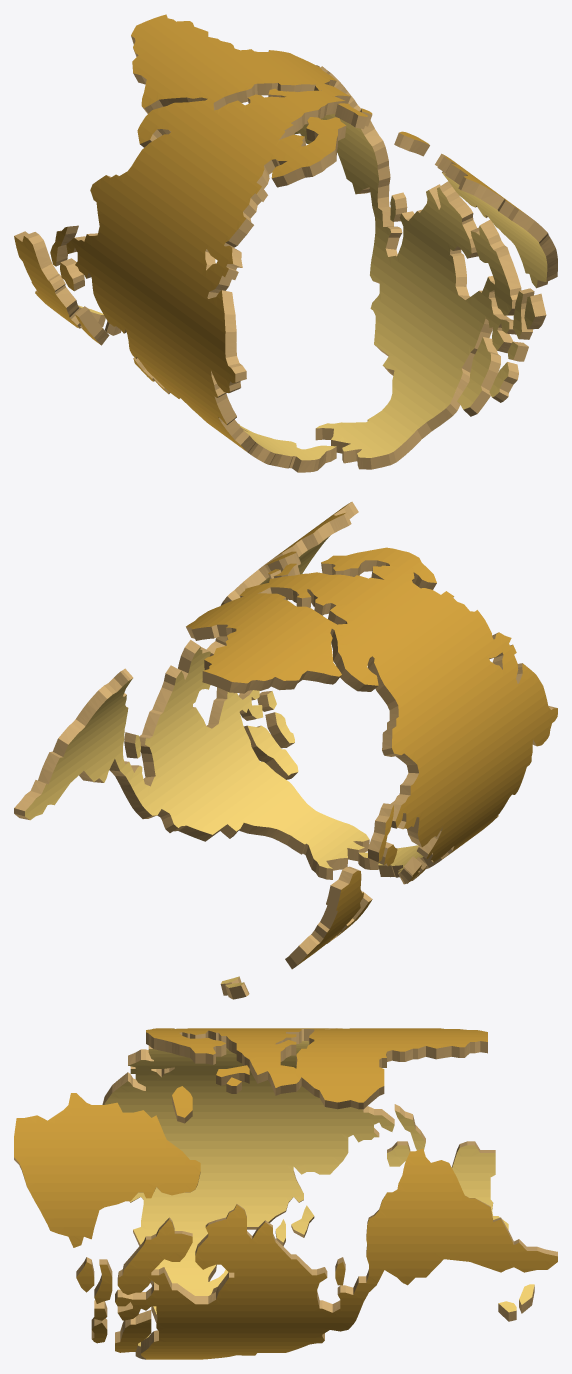
The picture shows the model from 3 angles, top to bottom: view 1: azimuth 30°, elevation 25°; view 2: azimuth 150°, elevation 25°; view 3: azimuth 270°, elevation 25°; orthographic projection. The views are drawn at different scales.
Parts seen in each view (by area): view 1: _0; view 2: _0; view 3: _0.
Boxes of the visible parts, left/top/right/bottom form: _0: left=14, top=14, right=557, bottom=472; _0: left=14, top=501, right=557, bottom=999; _0: left=14, top=1028, right=557, bottom=1359.
Size of the model in its own units: 4.87 by 4.87 by 8.
